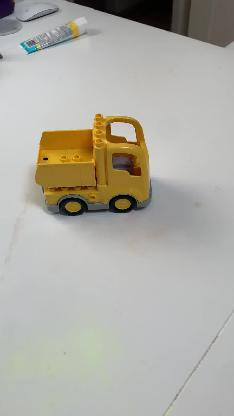yellow dump truck: (34, 113, 152, 215)
